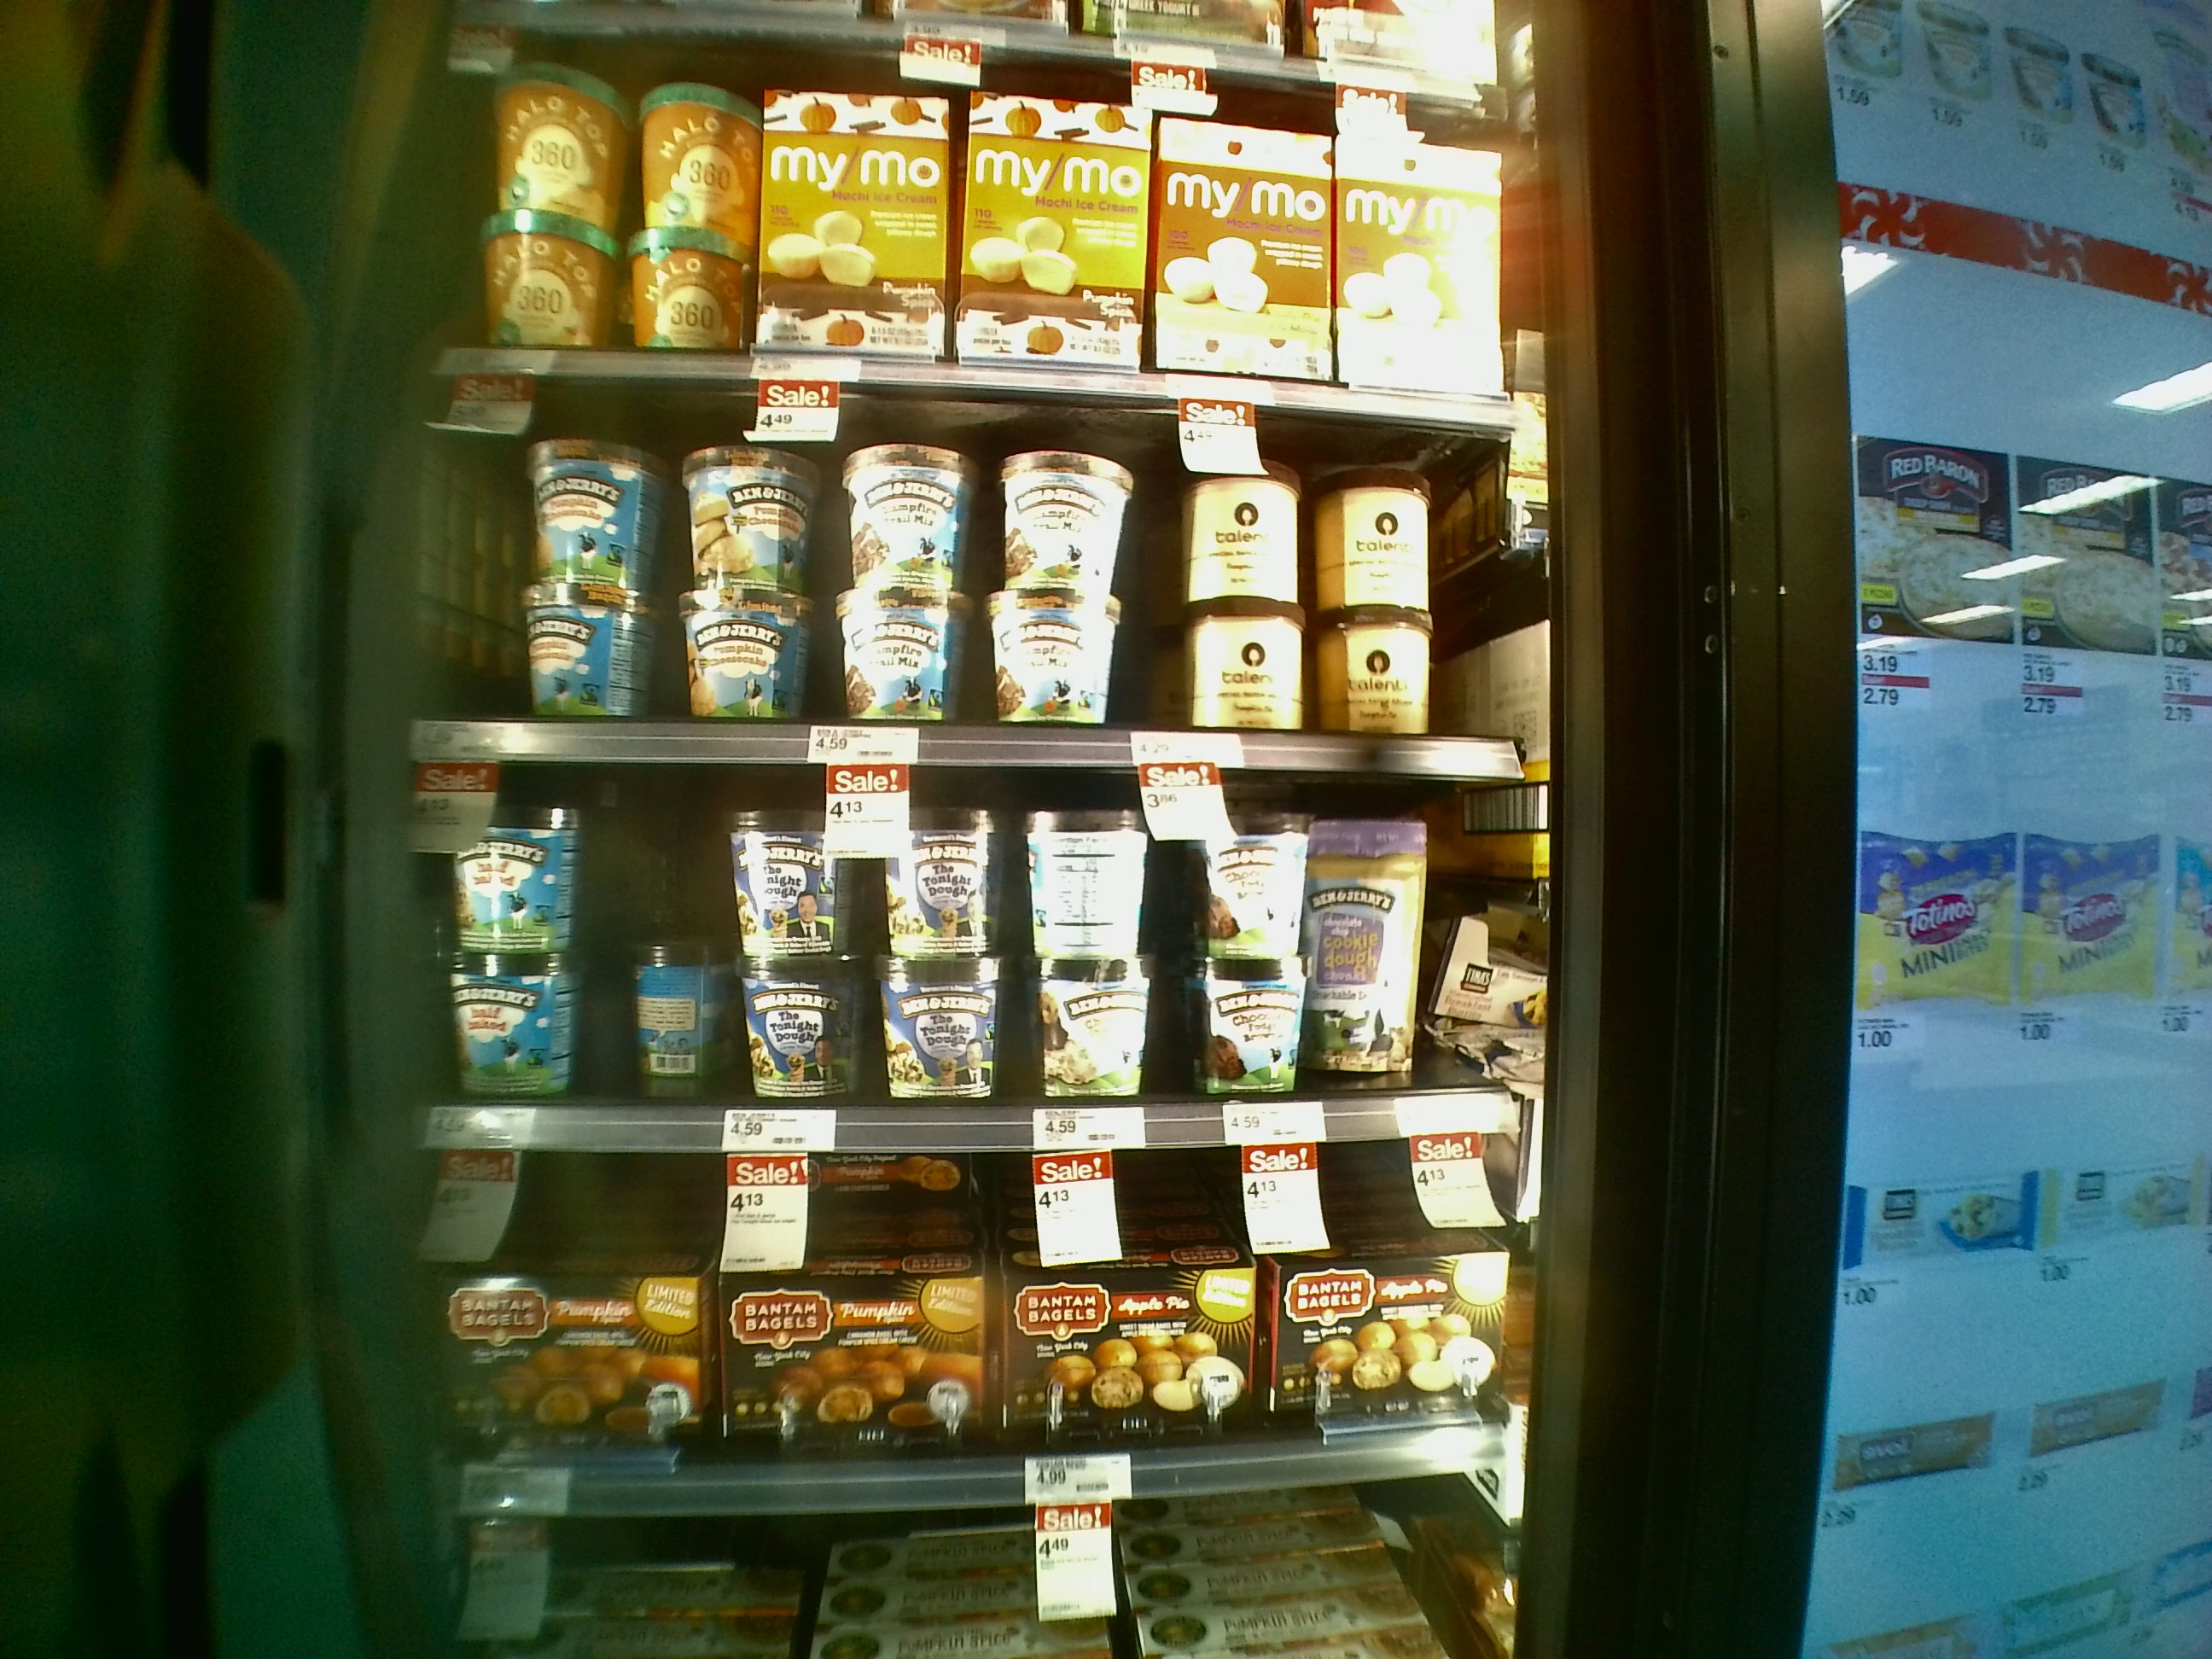shelf: (380, 727, 1531, 1133), (413, 347, 1527, 765), (371, 1115, 1496, 1492)
